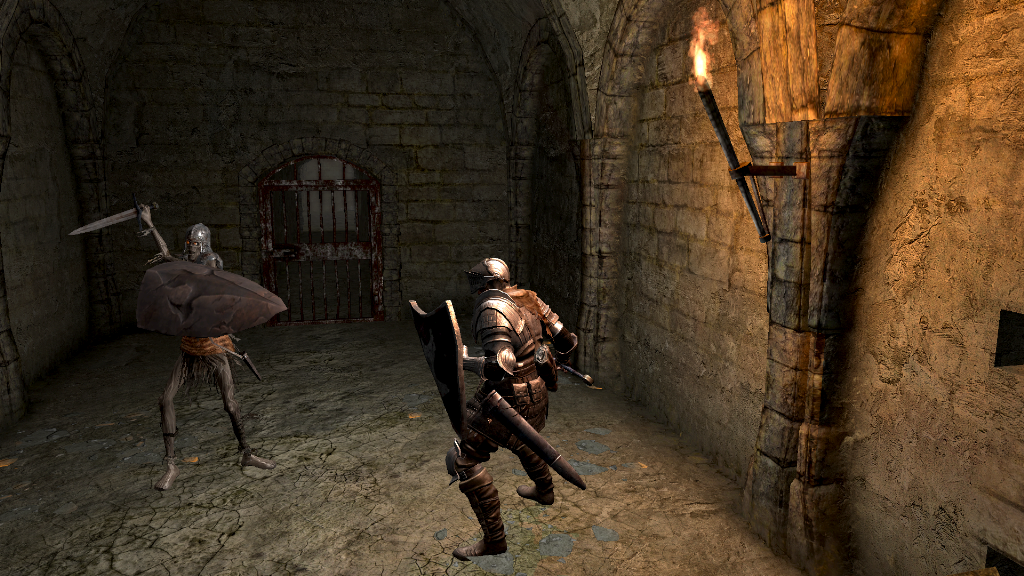player: (406, 254, 596, 558)
undeadSoldier: (133, 203, 275, 493)
